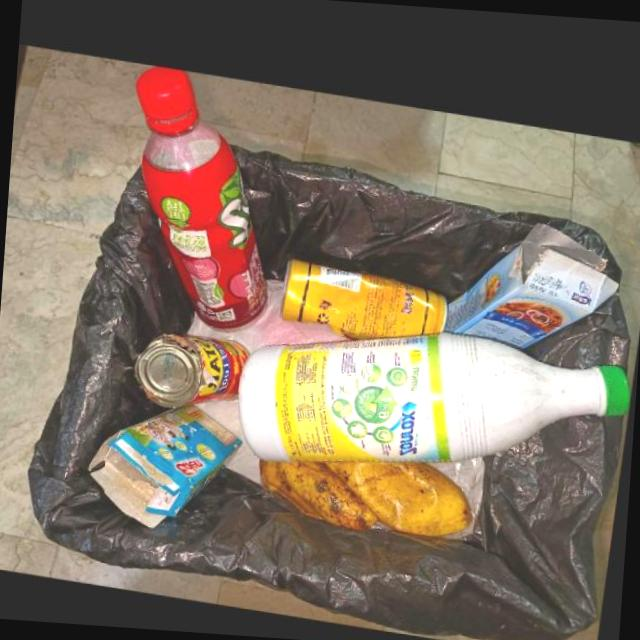carton: (95, 400, 249, 525)
chai_nhua: (244, 324, 636, 456)
chai_nhua_pet: (137, 63, 272, 328)
nhom: (284, 253, 452, 333), (139, 329, 255, 405)
vo_hop_sua: (447, 212, 622, 339)
vo_trai_cay: (332, 454, 480, 528), (266, 454, 385, 523)
